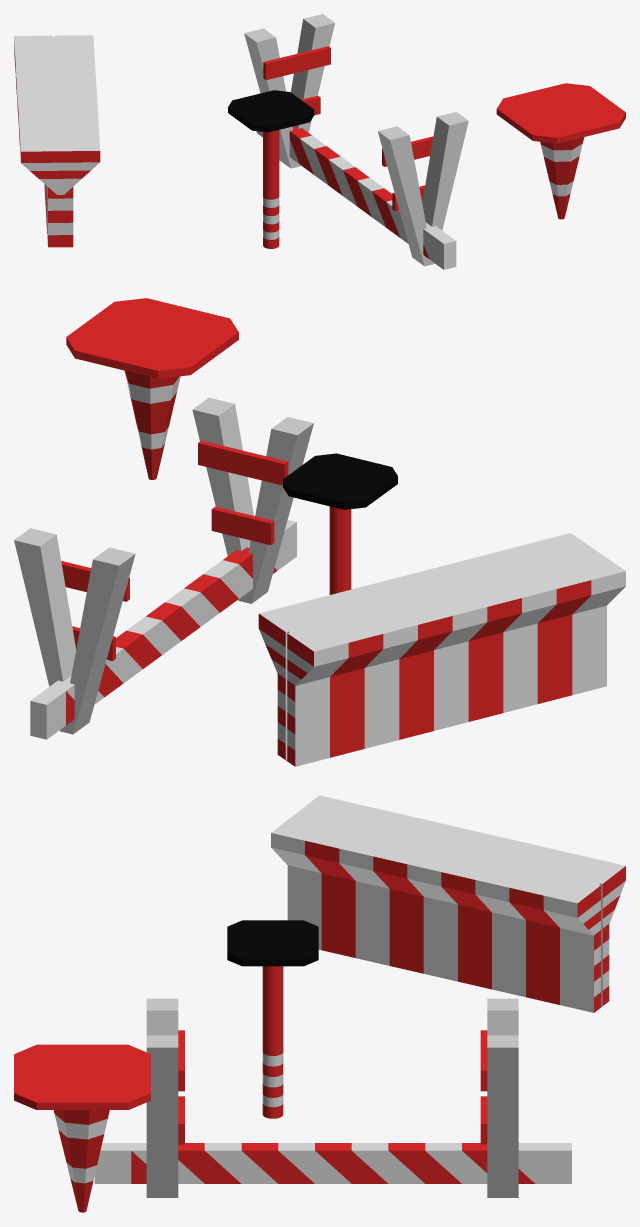
Rendered from uploads_files_3243642_Barricade.fbx.
3 views of the same model, one above another, from view 1: azimuth 30°, elevation 25°; view 2: azimuth 150°, elevation 25°; view 3: azimuth 270°, elevation 25° (orthographic). The views are drawn at different scales.
Parts seen in each view (by area): view 1: Cube.008, Cube.001, Plane, Cube.002, Cube, Plane.005, Cube.011, Cube.007, Cylinder.003, Cone, Cube.004, Cube.006; view 2: Cube.008, Cube.011, Cube.002, Plane, Cube.001, Cube, Plane.005, Cube.007, Cone, Cube.006, Cylinder.003, Cube.005 (+1 smaller); view 3: Cube.008, Cube.011, Cube, Plane, Cube.007, Cube.002, Cube.001, Plane.005, Cylinder.003, Cone, Cube.009.
Boxes of the visible parts, bbox=[...] form: Cube.008: bbox=[14, 35, 100, 244]; Cube.001: bbox=[378, 112, 468, 266]; Plane: bbox=[496, 83, 625, 143]; Cube.002: bbox=[244, 14, 334, 168]; Cube: bbox=[256, 131, 456, 269]; Plane.005: bbox=[228, 90, 314, 132]; Cube.011: bbox=[14, 50, 100, 247]; Cube.007: bbox=[289, 126, 428, 258]; Cylinder.003: bbox=[263, 130, 279, 248]; Cone: bbox=[540, 137, 584, 219]; Cube.004: bbox=[263, 46, 330, 80]; Cube.006: bbox=[382, 136, 433, 166]; Cube.008: bbox=[259, 533, 625, 766]; Cube.011: bbox=[258, 580, 591, 766]; Cube.002: bbox=[14, 528, 135, 734]; Plane: bbox=[66, 298, 238, 378]; Cube.001: bbox=[192, 397, 313, 603]; Cube: bbox=[30, 520, 296, 739]; Plane.005: bbox=[283, 453, 397, 509]; Cube.007: bbox=[66, 547, 277, 725]; Cone: bbox=[124, 370, 180, 479]; Cube.006: bbox=[198, 440, 288, 485]; Cylinder.003: bbox=[329, 506, 351, 594]; Cube.005: bbox=[211, 506, 274, 545]; Cube.008: bbox=[271, 795, 625, 1012]; Cube.011: bbox=[305, 841, 625, 1012]; Cube: bbox=[94, 1143, 571, 1183]; Plane: bbox=[14, 1044, 150, 1109]; Cube.007: bbox=[131, 1143, 534, 1183]; Cube.002: bbox=[487, 998, 518, 1197]; Cube.001: bbox=[146, 998, 178, 1197]; Plane.005: bbox=[227, 920, 318, 966]; Cylinder.003: bbox=[262, 966, 283, 1118]; Cone: bbox=[53, 1110, 109, 1212]; Cube.009: bbox=[271, 847, 593, 935].
Size of the model in its own units: 159 by 45.22 by 134.
